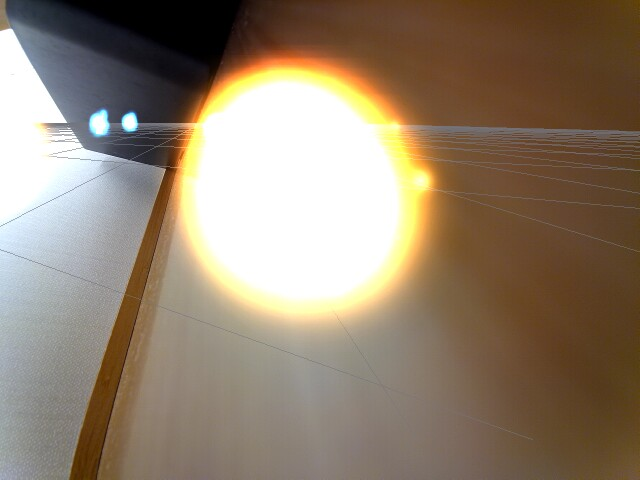fire: (167, 59, 441, 335)
